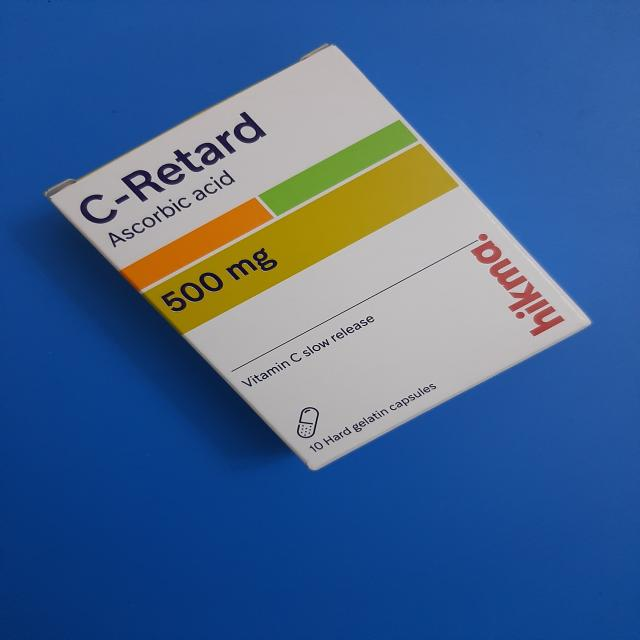C-Retard: (24, 33, 623, 496), (47, 45, 590, 469)
